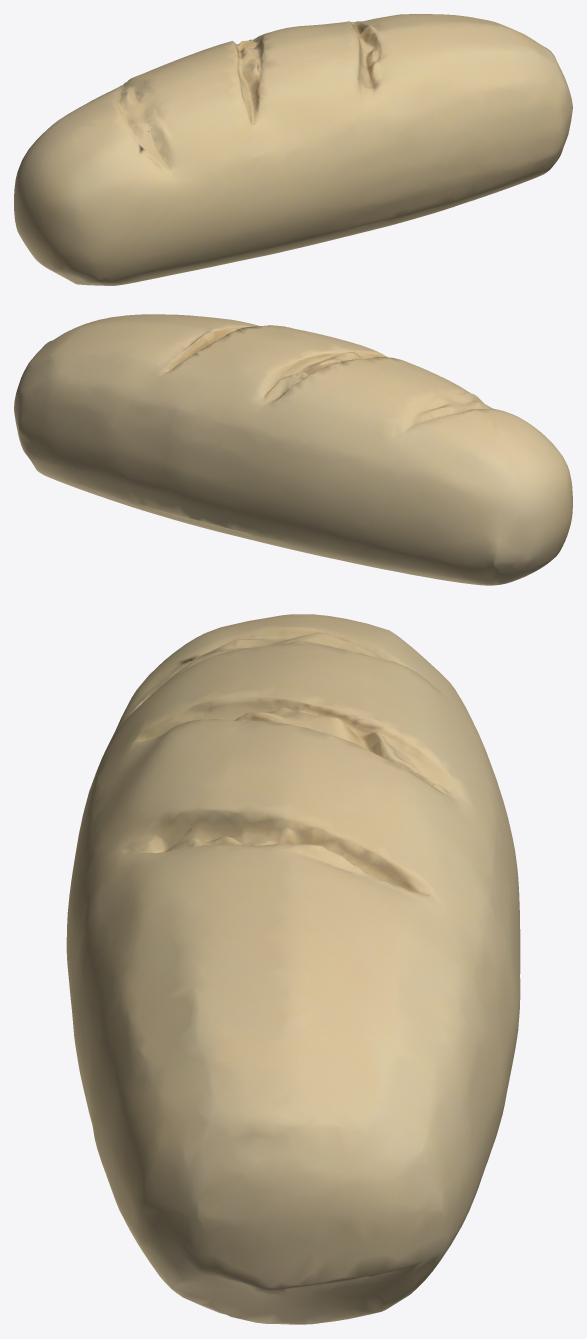
File: Meshy_AI_Artisanal_Bread_Loaf_0423145345_texture.fbx
3 renders of one model, top to bottom at view 1: azimuth 30°, elevation 25°; view 2: azimuth 150°, elevation 25°; view 3: azimuth 270°, elevation 25°, orthographic. The views are drawn at different scales.
Parts seen in each view (by area): view 1: Mesh_0; view 2: Mesh_0; view 3: Mesh_0.
Part boxes in pixels (x1,y1,x2,y2): Mesh_0: [14, 14, 572, 285]; Mesh_0: [14, 314, 572, 585]; Mesh_0: [66, 614, 520, 1324].
Size of the model in its own units: 200 by 68.55 by 74.49.
1 material, 1 textured.
